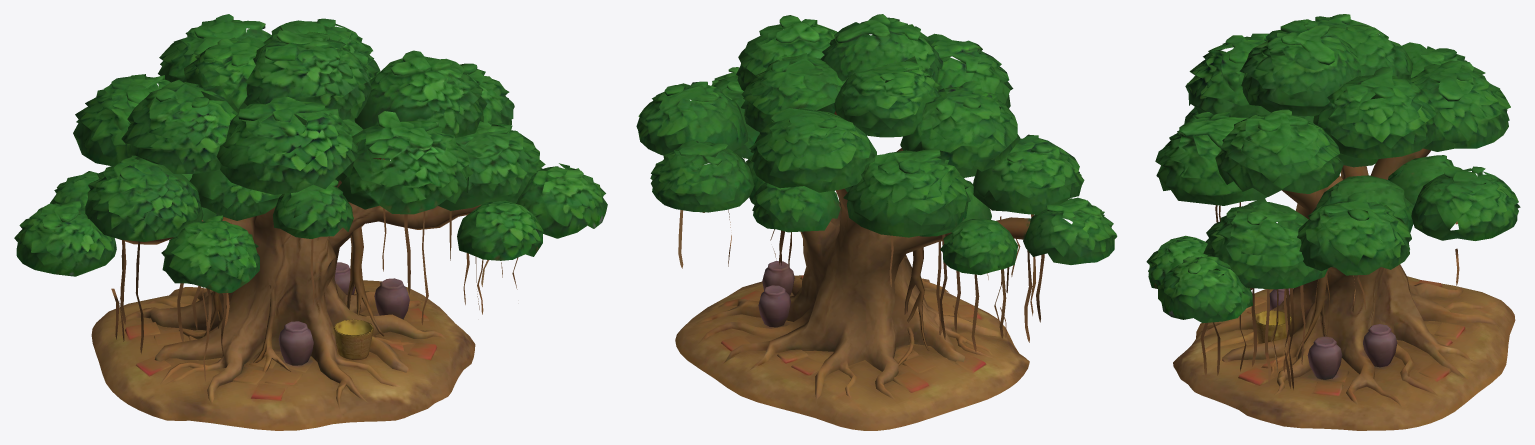
Rendered from cay-da.aa7947f9.glb.
The picture shows the model from 3 angles, left to right: view 1: azimuth 30°, elevation 25°; view 2: azimuth 150°, elevation 25°; view 3: azimuth 270°, elevation 25°; orthographic projection. The views are drawn at different scales.
Visible parts, largest first — view 1: bc180ea3_5f6c_4104_8eb2_8c2deb93a9f0; view 2: bc180ea3_5f6c_4104_8eb2_8c2deb93a9f0; view 3: bc180ea3_5f6c_4104_8eb2_8c2deb93a9f0.
Part boxes in pixels (left/top/right/bottom): bc180ea3_5f6c_4104_8eb2_8c2deb93a9f0: left=14, top=14, right=607, bottom=430; bc180ea3_5f6c_4104_8eb2_8c2deb93a9f0: left=636, top=14, right=1117, bottom=430; bc180ea3_5f6c_4104_8eb2_8c2deb93a9f0: left=1146, top=14, right=1520, bottom=430.
Bounding box in the file's own units: 0.9995 × 0.6333 × 0.6704.
1 material, 1 textured.
